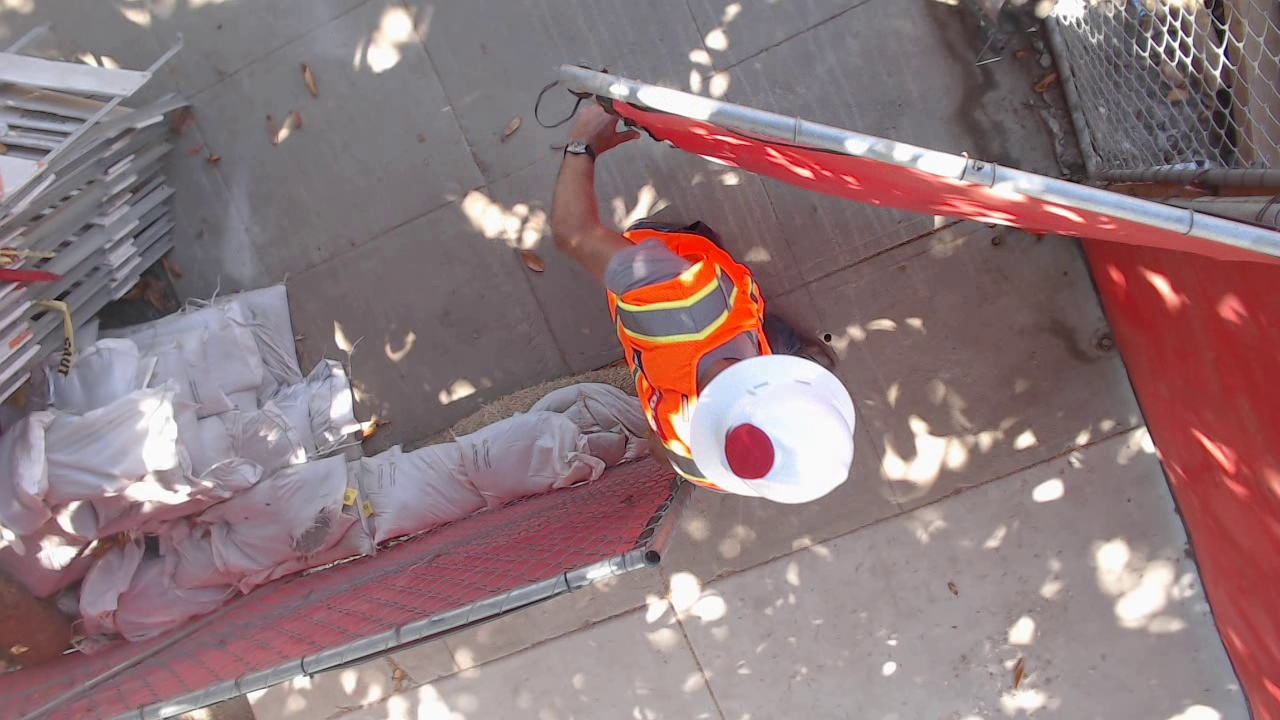hardhat: (151, 1, 233, 73)
person: (178, 1, 553, 296)
safetyvest: (208, 11, 467, 259)
